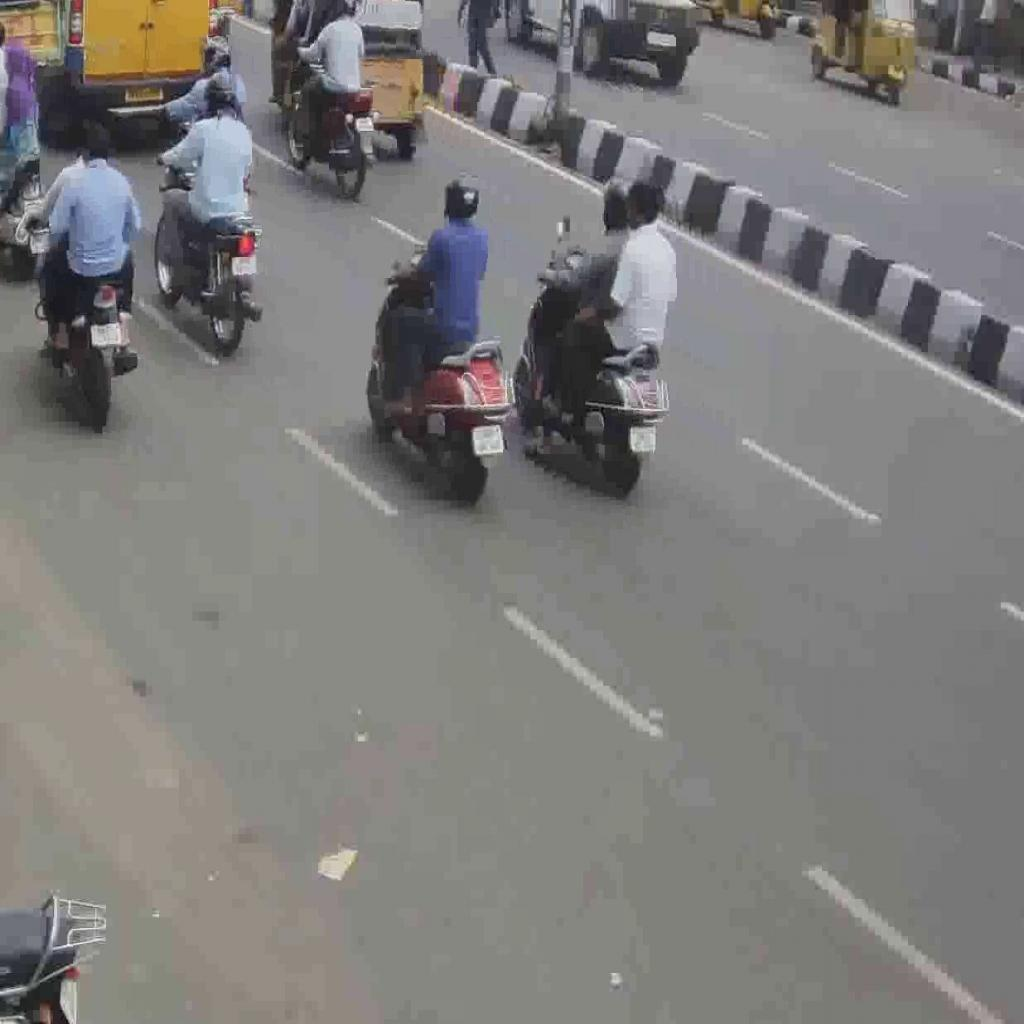helmet: (513, 241, 671, 500), (365, 245, 516, 504), (24, 202, 138, 432), (153, 156, 264, 356), (286, 38, 380, 198)
